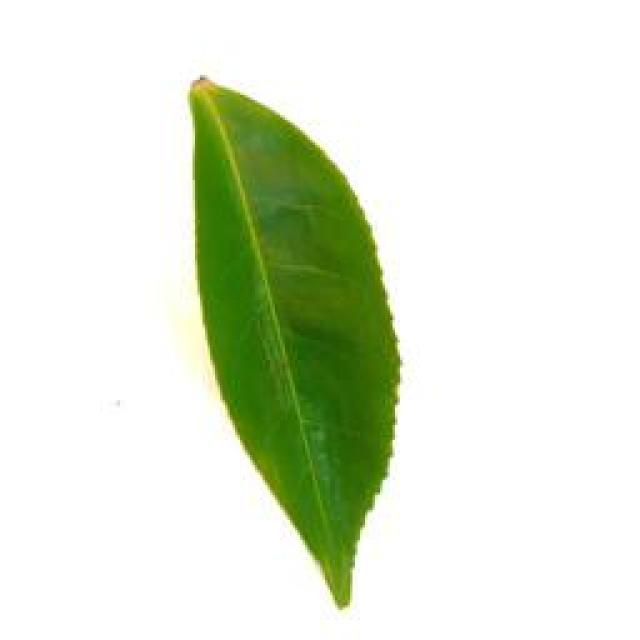Healthy: (176, 59, 416, 626)
